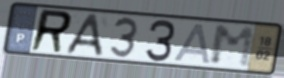3: (142, 17, 178, 63), (108, 15, 140, 59)
A: (172, 22, 214, 66), (64, 13, 105, 57)
M: (209, 24, 257, 69)
R: (28, 7, 75, 55)
